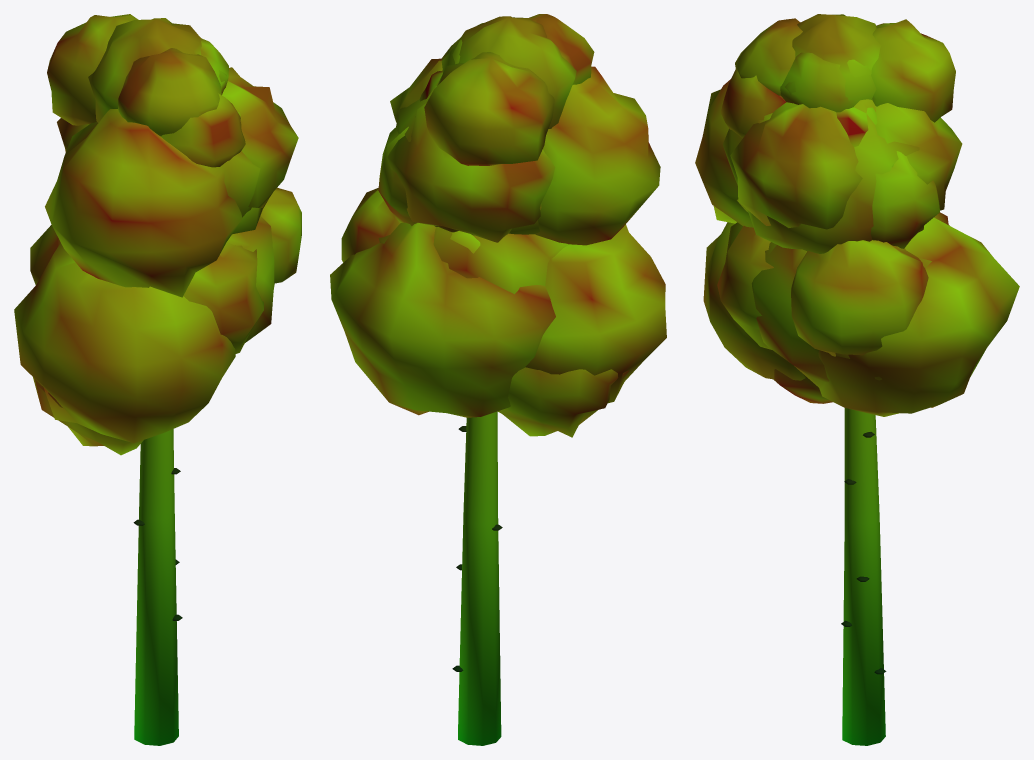
Rendered from tree_birch_b.glb.
The picture shows the model from 3 angles, left to right: view 1: azimuth 30°, elevation 25°; view 2: azimuth 150°, elevation 25°; view 3: azimuth 270°, elevation 25°; orthographic projection. The views are drawn at different scales.
Visible parts, largest first — view 1: tree_birch_b; view 2: tree_birch_b; view 3: tree_birch_b.
Boxes of the visible parts, x1=… form: tree_birch_b: x1=14, y1=14, x2=301, y2=745; tree_birch_b: x1=330, y1=14, x2=666, y2=745; tree_birch_b: x1=695, y1=14, x2=1019, y2=745.
Size of what is drawn, in the model's own units: 2.89 by 7.02 by 2.89.
